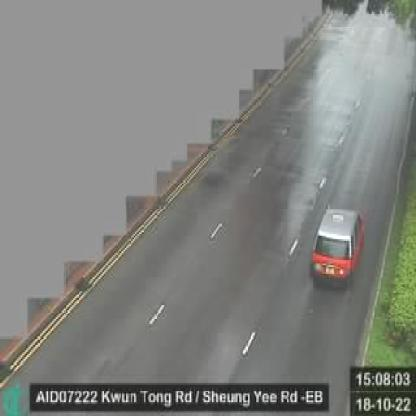Car: (308, 206, 366, 284)
